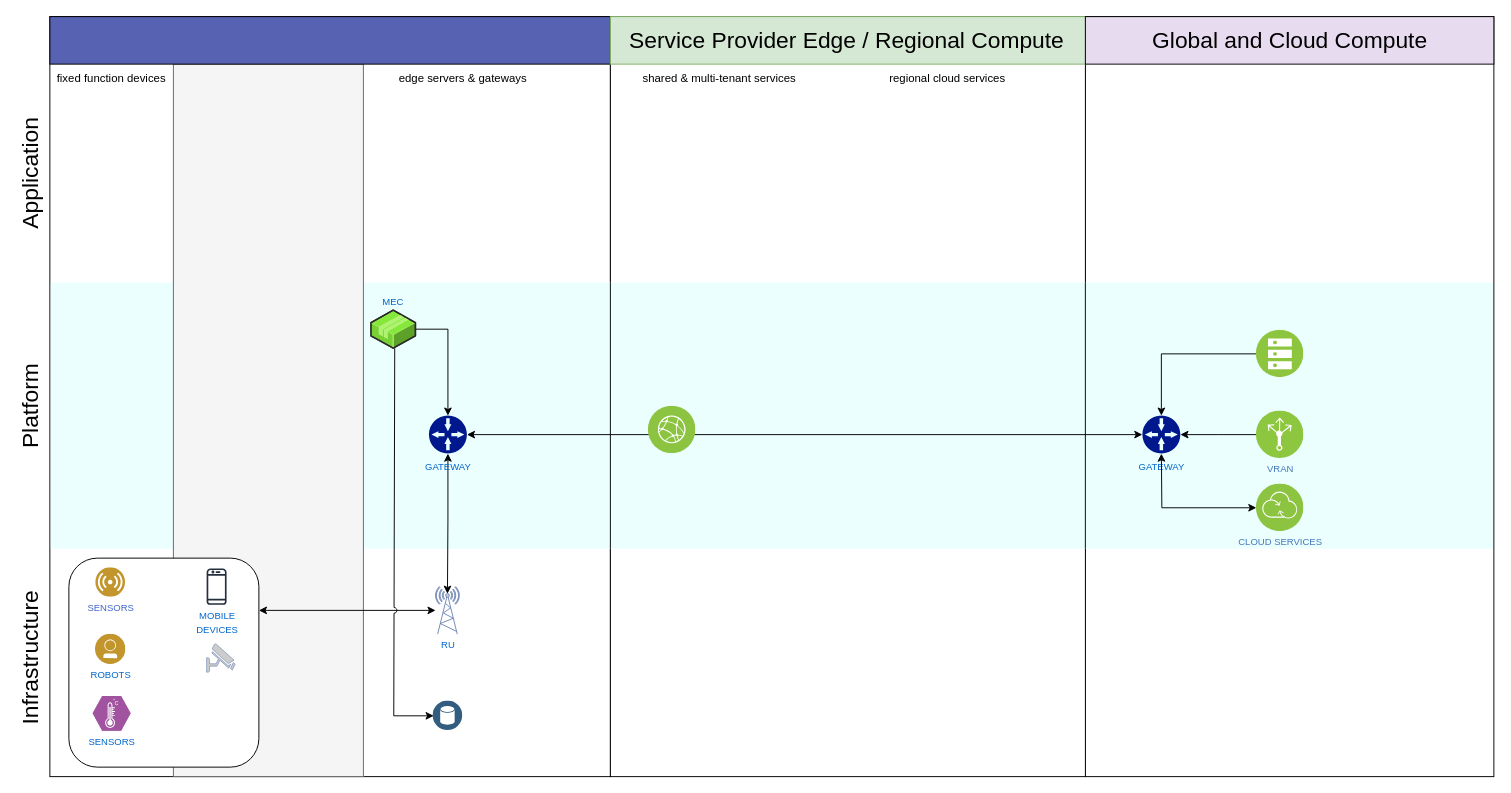
Image size: 1511x793. Some labels were removed from this diagram. Here are the shapes that lost their labels. From the top down, the centre of each, then its label:
(329,40): User Edge, Field Deployed Compute
(1279,353): CORE
(267,420): programmable devices
(671,429): EDGE SERVICES
(220,657): CAMERA
(447,715): STORAGE
